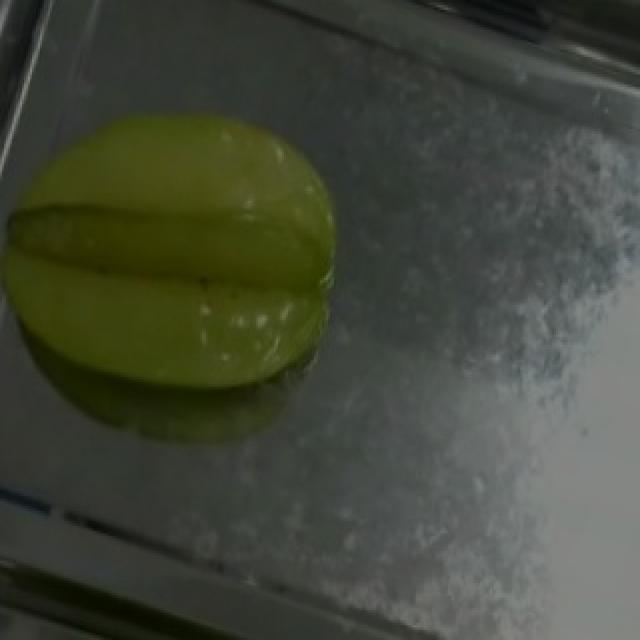fruit: (0, 7, 404, 449)
